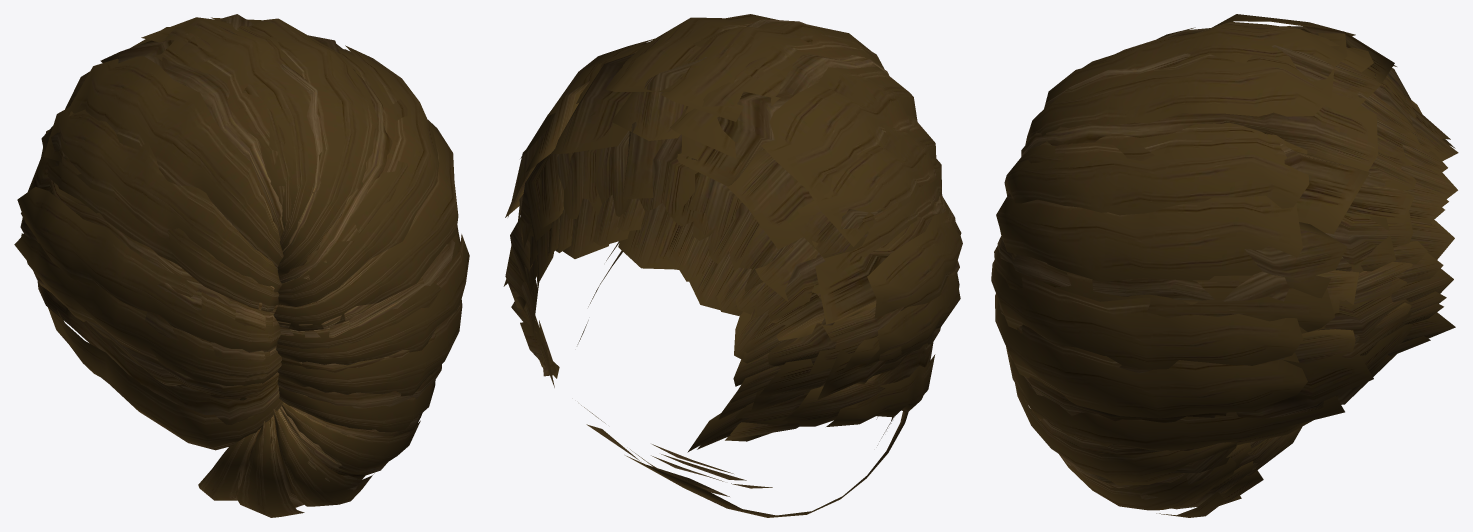
File: Short1-transformed.glb
The picture shows the model from 3 angles, left to right: view 1: azimuth 30°, elevation 25°; view 2: azimuth 150°, elevation 25°; view 3: azimuth 270°, elevation 25°; orthographic projection. The views are drawn at different scales.
Parts seen in each view (by area): view 1: Geom; view 2: Geom; view 3: Geom.
Part boxes in pixels (left/top/right/bottom): Geom: left=14, top=14, right=469, bottom=517; Geom: left=503, top=14, right=962, bottom=517; Geom: left=991, top=14, right=1458, bottom=517.
Bounding box in the file's own units: 0.0237 × 0.0274 × 0.0247.
1 material, 1 textured.
